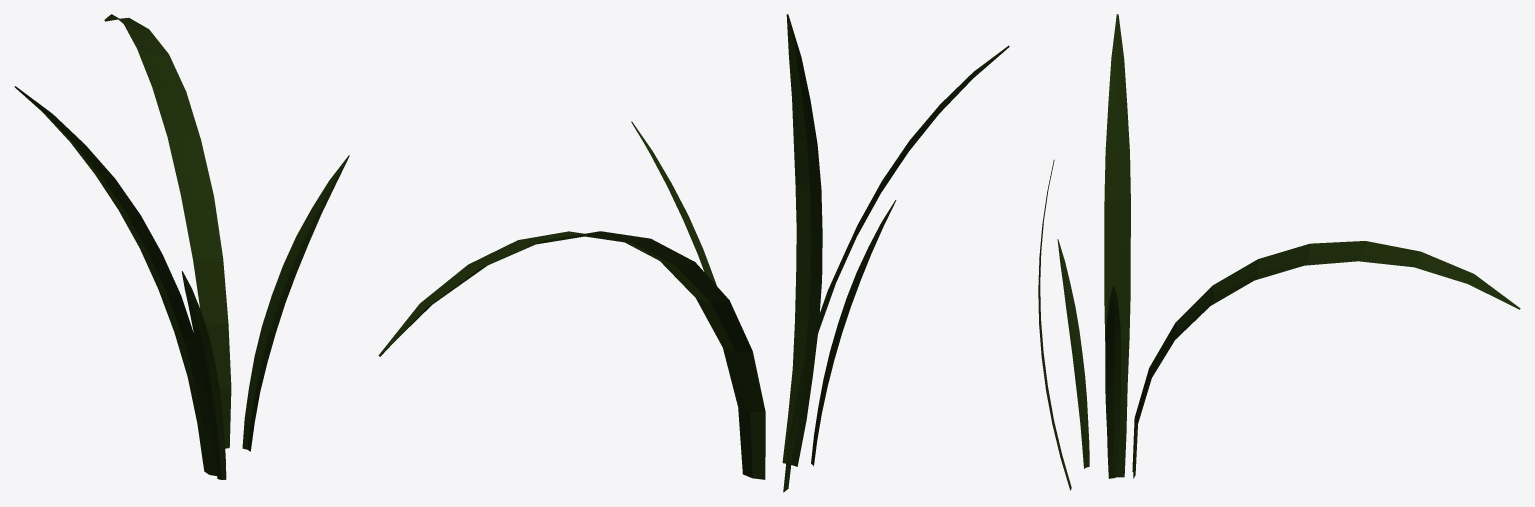
The model's file is brinsDherbe.obj.
3 renders of one model, left to right at view 1: azimuth 30°, elevation 25°; view 2: azimuth 150°, elevation 25°; view 3: azimuth 270°, elevation 25°, orthographic. The views are drawn at different scales.
Parts seen in each view (by area): view 1: Plan.001, Plan.003, Plan, Plan.004; view 2: Plan.001, Plan.002, Plan.003, Plan.004, Plan; view 3: Plan.003, Plan.001, Plan, Plan.004, Plan.002.
Boxes of the visible parts, bbox=[...] form: Plan.001: bbox=[104, 14, 231, 448]; Plan.003: bbox=[14, 86, 216, 475]; Plan: bbox=[242, 155, 349, 451]; Plan.004: bbox=[181, 271, 226, 479]; Plan.001: bbox=[378, 231, 765, 479]; Plan.002: bbox=[782, 14, 822, 466]; Plan.003: bbox=[783, 45, 1009, 492]; Plan.004: bbox=[811, 200, 896, 466]; Plan: bbox=[631, 121, 716, 285]; Plan.003: bbox=[1104, 14, 1130, 478]; Plan.001: bbox=[1132, 241, 1520, 478]; Plan: bbox=[1105, 286, 1120, 478]; Plan.004: bbox=[1057, 239, 1089, 468]; Plan.002: bbox=[1038, 159, 1071, 490].
Bounding box in the file's own units: 0.7145 × 0.9005 × 1.02.
